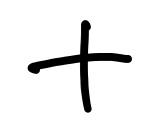plus: (28, 21, 133, 112)
